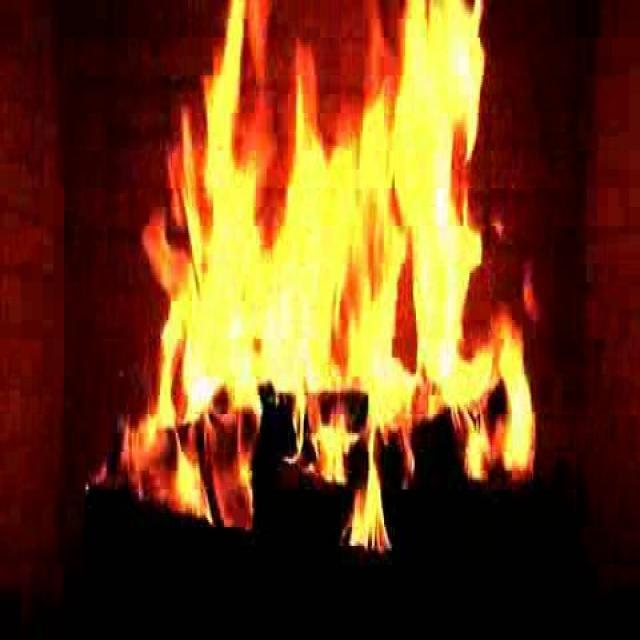Fire: (153, 45, 518, 474)
